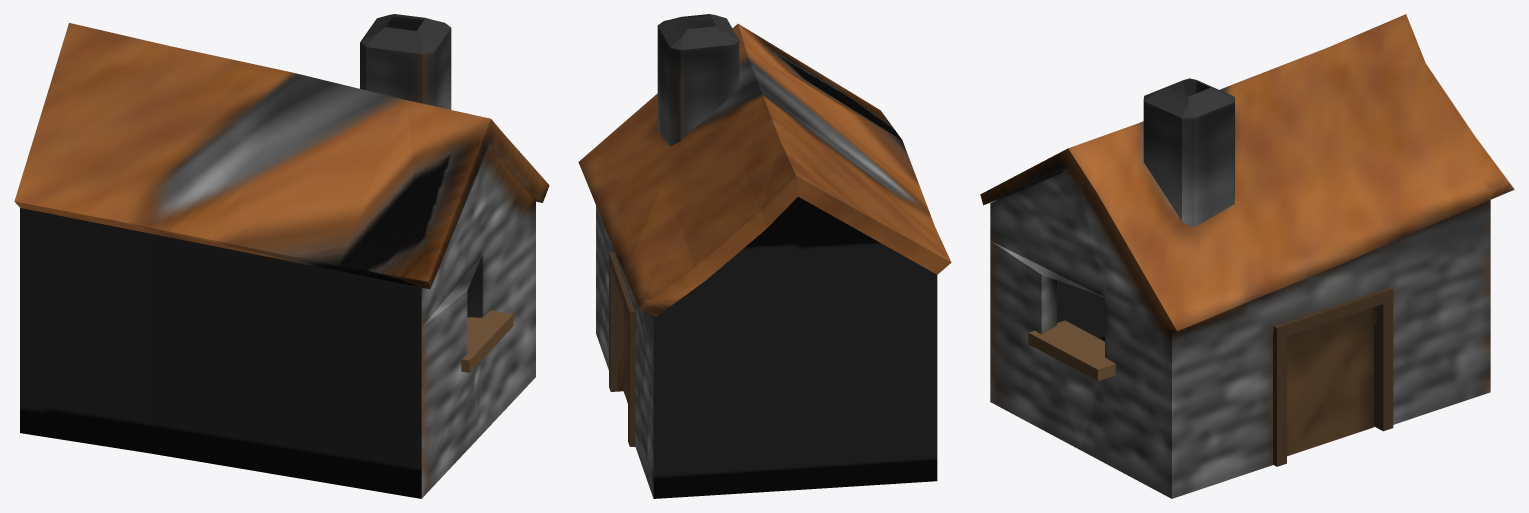
Rendered from stonehut12.obj.
3 renders of one model, left to right at view 1: azimuth 30°, elevation 25°; view 2: azimuth 150°, elevation 25°; view 3: azimuth 270°, elevation 25°, orthographic. The views are drawn at different scales.
Visible parts, largest first — view 1: stonehut; view 2: stonehut; view 3: stonehut.
Part boxes in pixels (x1,y1,x2,y2): stonehut: [14, 14, 549, 498]; stonehut: [578, 14, 951, 498]; stonehut: [980, 14, 1514, 498].
Bounding box in the file's own units: 57.92 × 44.34 × 60.32.
